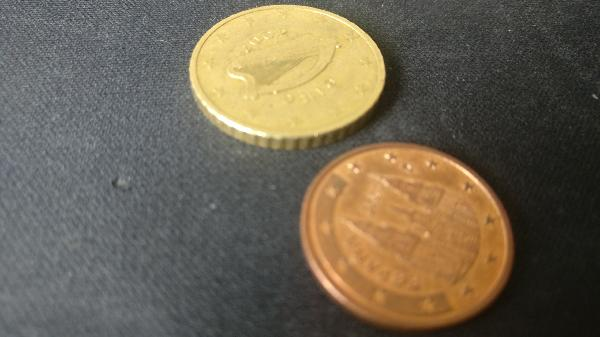Five Cent: (302, 138, 522, 322)
Ten Cent: (191, 1, 407, 149)
